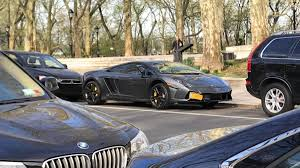Lamborghini: (88, 63, 225, 104)
